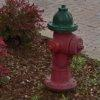a fire hydrant: (49, 7, 82, 89)
